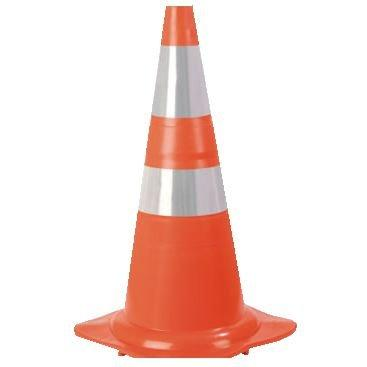traffic_cone: (73, 1, 297, 359)
